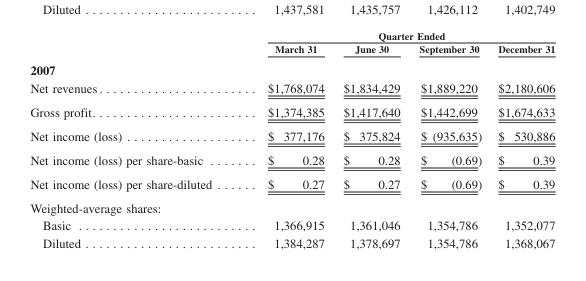table: (29, 29, 554, 249)
table column: (29, 29, 239, 249), (239, 29, 333, 249), (409, 29, 489, 249), (333, 29, 409, 249), (489, 29, 554, 249)
table column header: (29, 29, 554, 58)
table projected row header: (29, 195, 554, 216), (29, 58, 554, 78)
table row: (29, 99, 554, 123), (29, 123, 554, 147), (29, 147, 554, 171), (29, 171, 554, 195), (29, 78, 554, 99), (29, 195, 554, 216), (29, 58, 554, 78), (29, 41, 554, 58), (29, 216, 554, 233), (29, 233, 554, 249), (29, 29, 554, 41)
table spanning cell: (239, 29, 554, 41)
